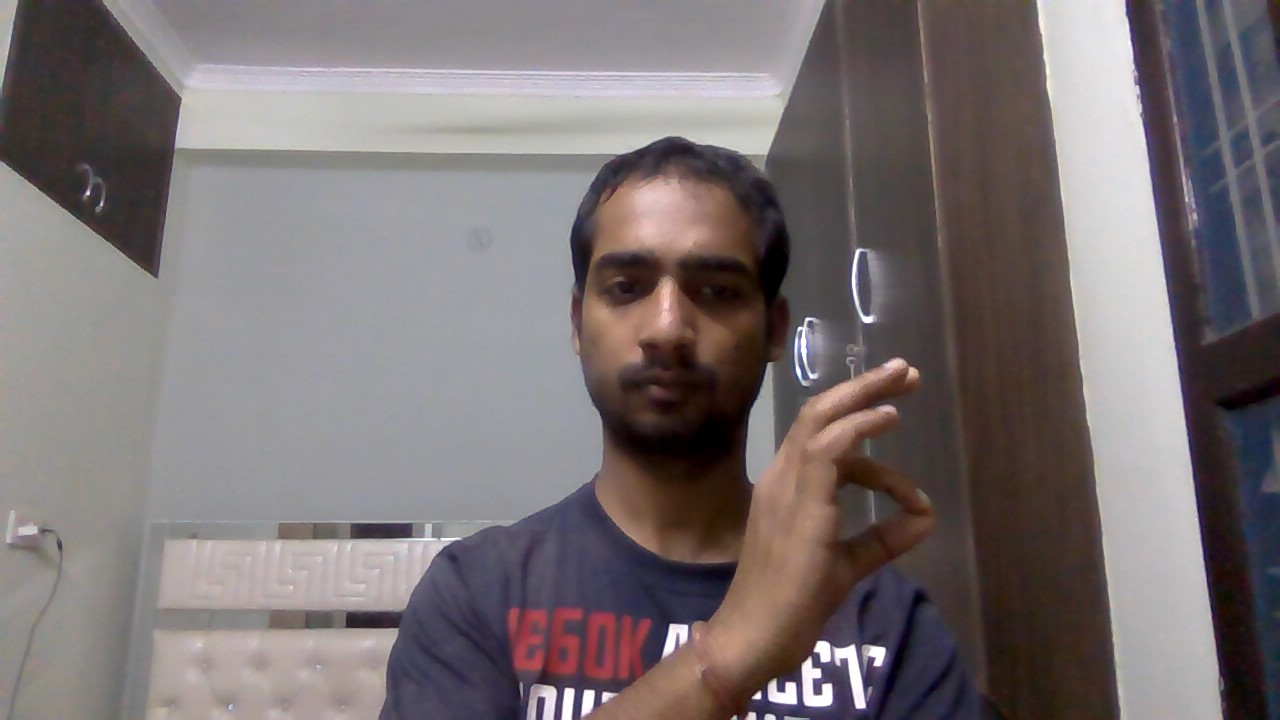Copy: (726, 356, 953, 690)
